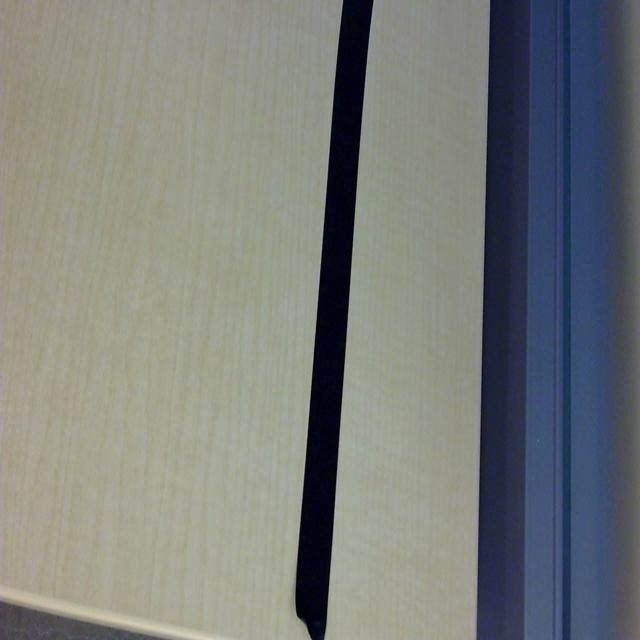tape: (294, 2, 374, 638)
